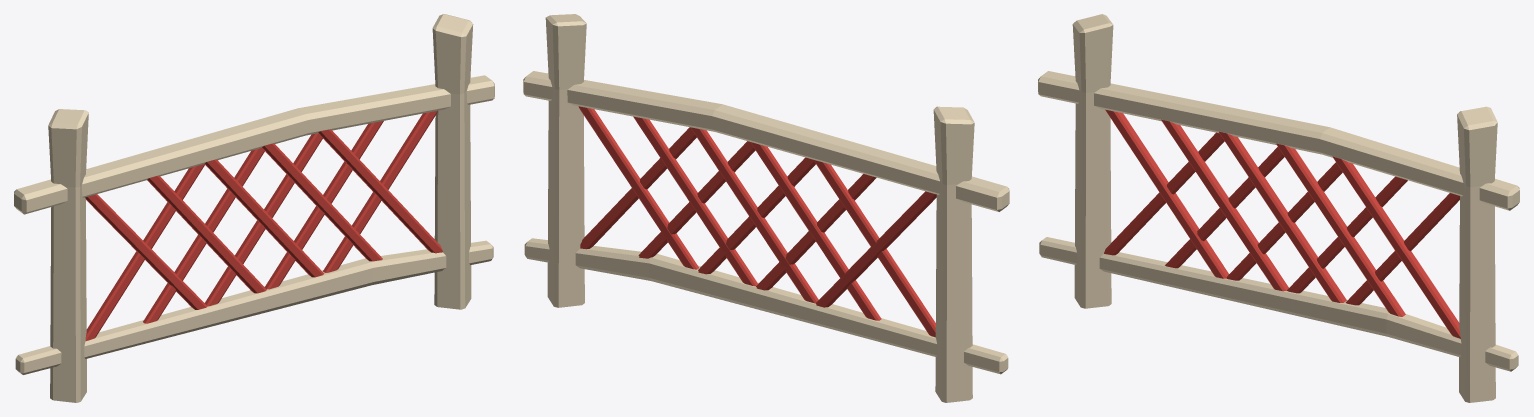
Rendered from fence_n.gltf.
The picture shows the model from 3 angles, left to right: view 1: azimuth 30°, elevation 25°; view 2: azimuth 150°, elevation 25°; view 3: azimuth 330°, elevation 25°; orthographic projection.
Parts seen in each view (by area): view 1: fence_n001; view 2: fence_n001; view 3: fence_n001.
Part boxes in pixels (x1=…): fence_n001: x1=14, y1=14, x2=494, y2=402; fence_n001: x1=523, y1=14, x2=1009, y2=402; fence_n001: x1=1038, y1=14, x2=1519, y2=402.
Size of the model in its own units: 1.15 by 0.6569 by 0.0933.
Materials: 1 (1 with a texture image).
